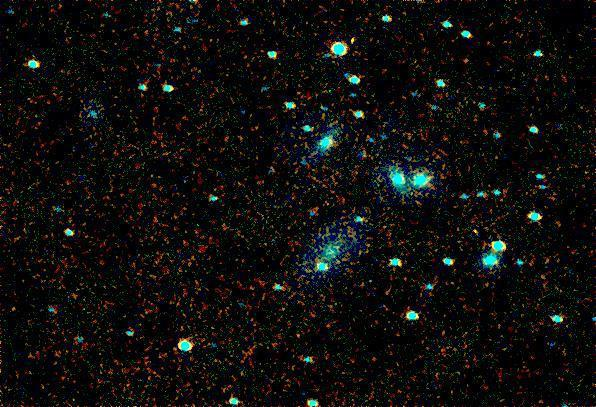star: (461, 217, 491, 247)
